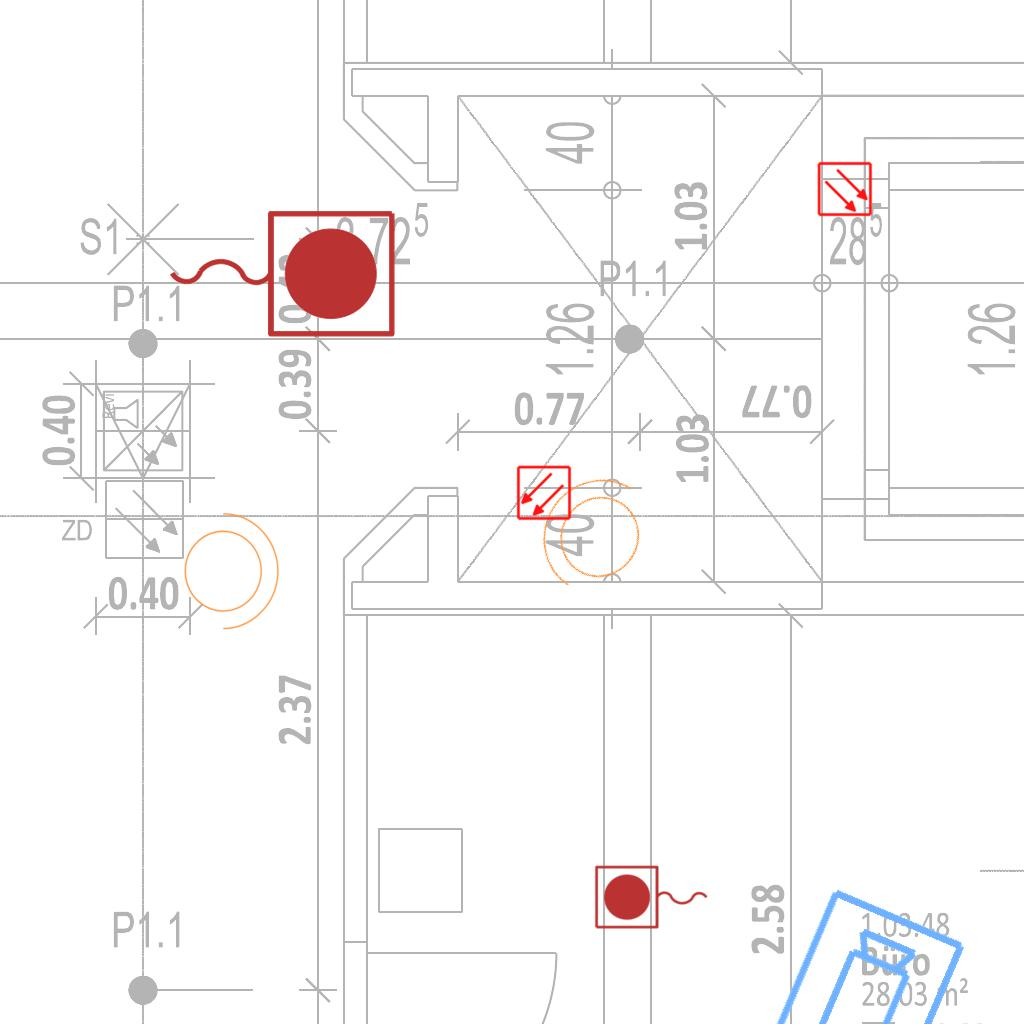KFO_Kamera_mit_Festobjektiv: (760, 883, 974, 1024)
RMO_Rauchmelder_optischer: (817, 161, 873, 217), (516, 465, 572, 521)
Scheinwerfer_fuer_Alarmbeleuchtung: (511, 451, 677, 623), (172, 502, 284, 634)
Zugtaster: (159, 200, 403, 344), (591, 862, 713, 934)
